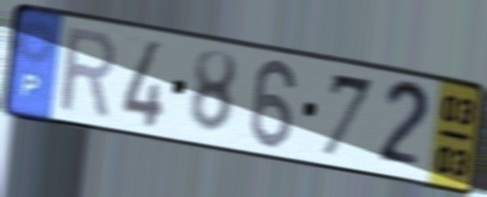2: (373, 78, 436, 180)
4: (120, 37, 168, 131)
6: (247, 57, 299, 151)
7: (319, 68, 377, 159)
8: (186, 48, 241, 140)
R: (57, 24, 118, 122)
